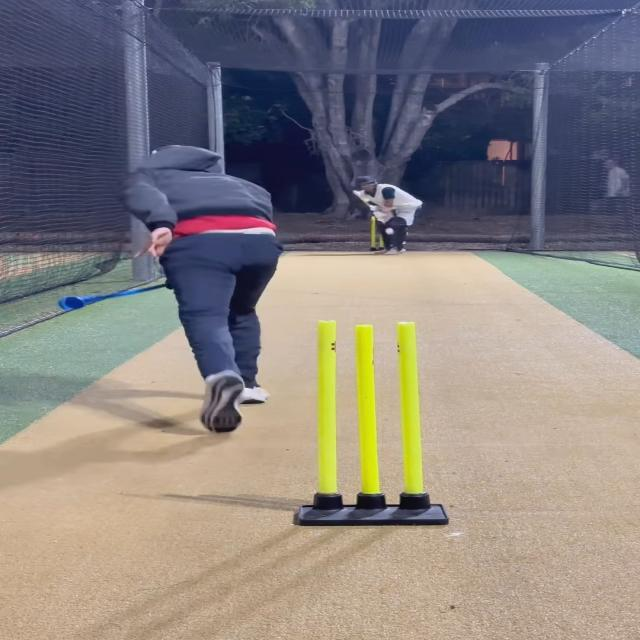ball: (384, 228, 396, 235)
stump: (295, 318, 449, 527)
